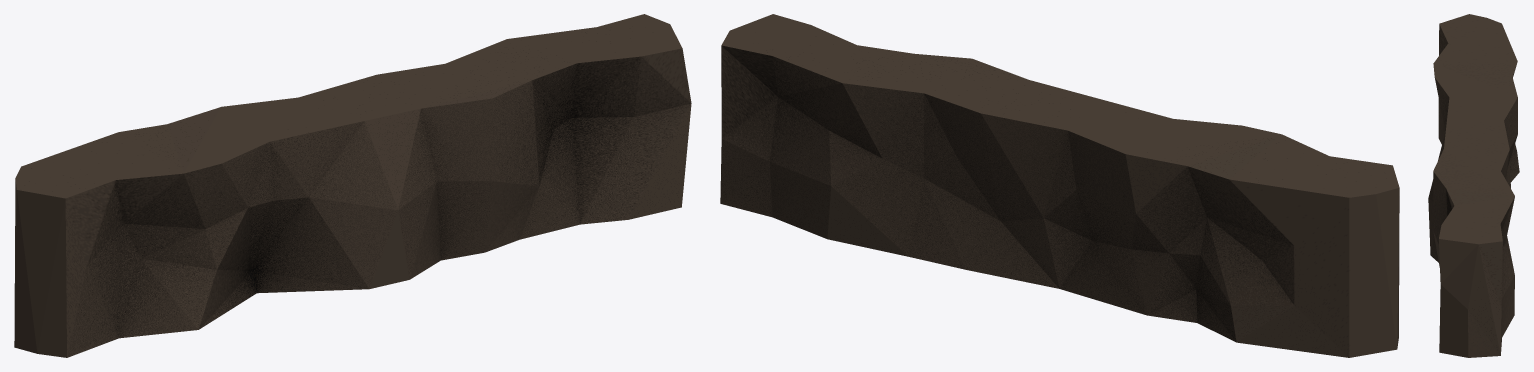
File: Wall Earth.glb
3 renders of one model, left to right at view 1: azimuth 30°, elevation 25°; view 2: azimuth 150°, elevation 25°; view 3: azimuth 270°, elevation 25°, orthographic. The views are drawn at different scales.
Parts seen in each view (by area): view 1: wall_earth; view 2: wall_earth; view 3: wall_earth.
Part boxes in pixels (bbox=[...]): wall_earth: bbox=[14, 14, 691, 357]; wall_earth: bbox=[720, 14, 1399, 357]; wall_earth: bbox=[1428, 14, 1519, 357].
Bounding box in the file's own units: 13 × 3 × 2.18.
Materials: 1 (1 with a texture image).
